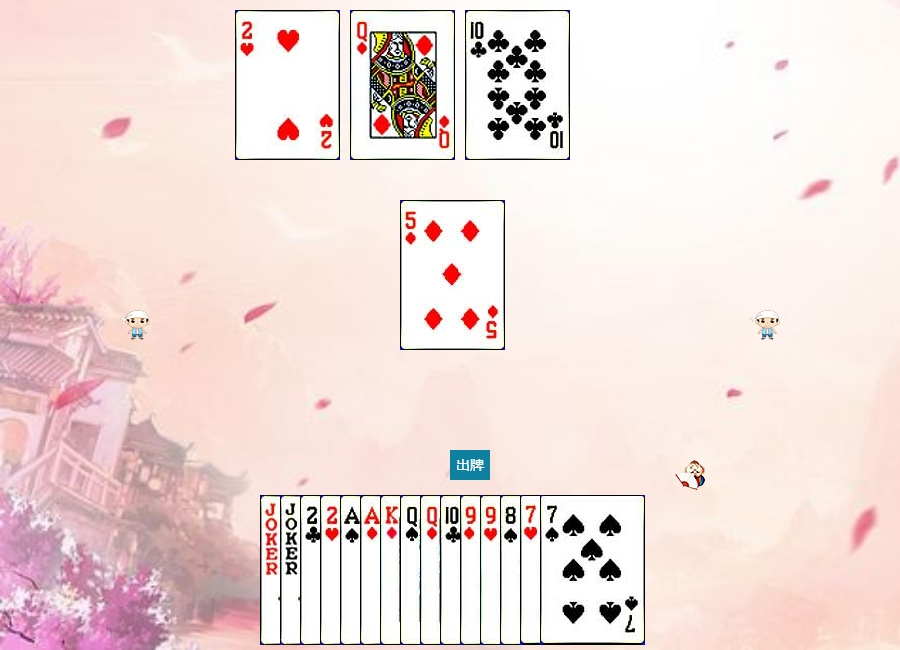10~2: (465, 10, 570, 160), (440, 495, 545, 645)
12~1: (350, 10, 455, 160), (420, 495, 525, 645)
12~4: (400, 495, 505, 645)
13~1: (380, 495, 485, 645)
14~1: (360, 495, 465, 645)
14~4: (340, 495, 445, 645)
15~2: (300, 495, 405, 645)
15~3: (235, 10, 340, 160), (320, 495, 425, 645)
17~3: (280, 495, 385, 645)
18~4: (260, 495, 365, 645)
5~1: (400, 200, 505, 350)
7~3: (520, 495, 625, 645)
7~4: (540, 495, 645, 645)
8~4: (500, 495, 605, 645)
9~1: (460, 495, 565, 645)
9~3: (480, 495, 585, 645)
